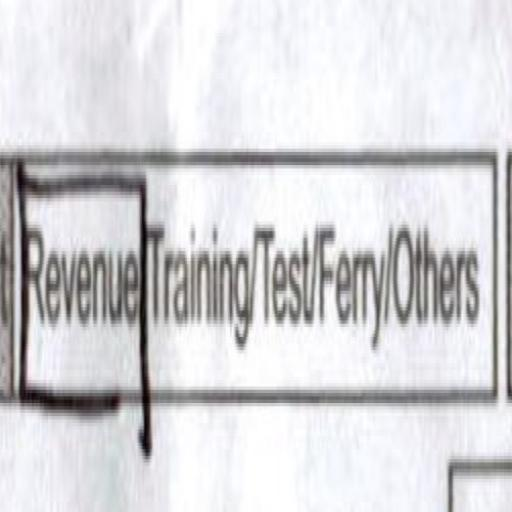check: (12, 156, 143, 429)
